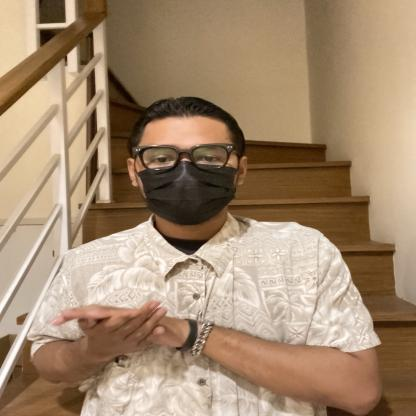Love: (35, 264, 240, 372)
